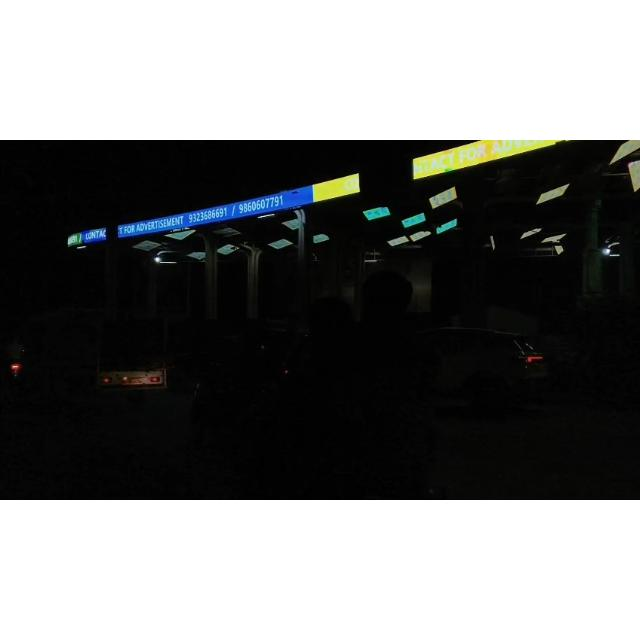car: (371, 320, 581, 431)
